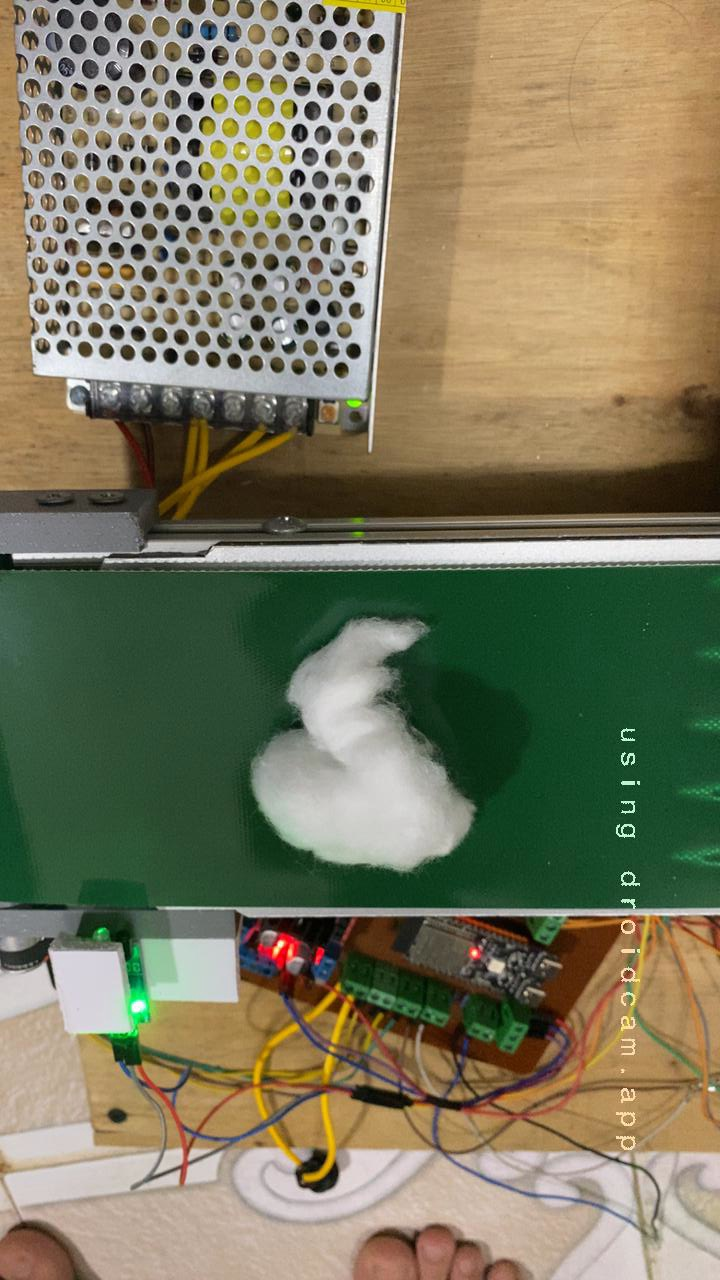cotton: (220, 597, 496, 885)
